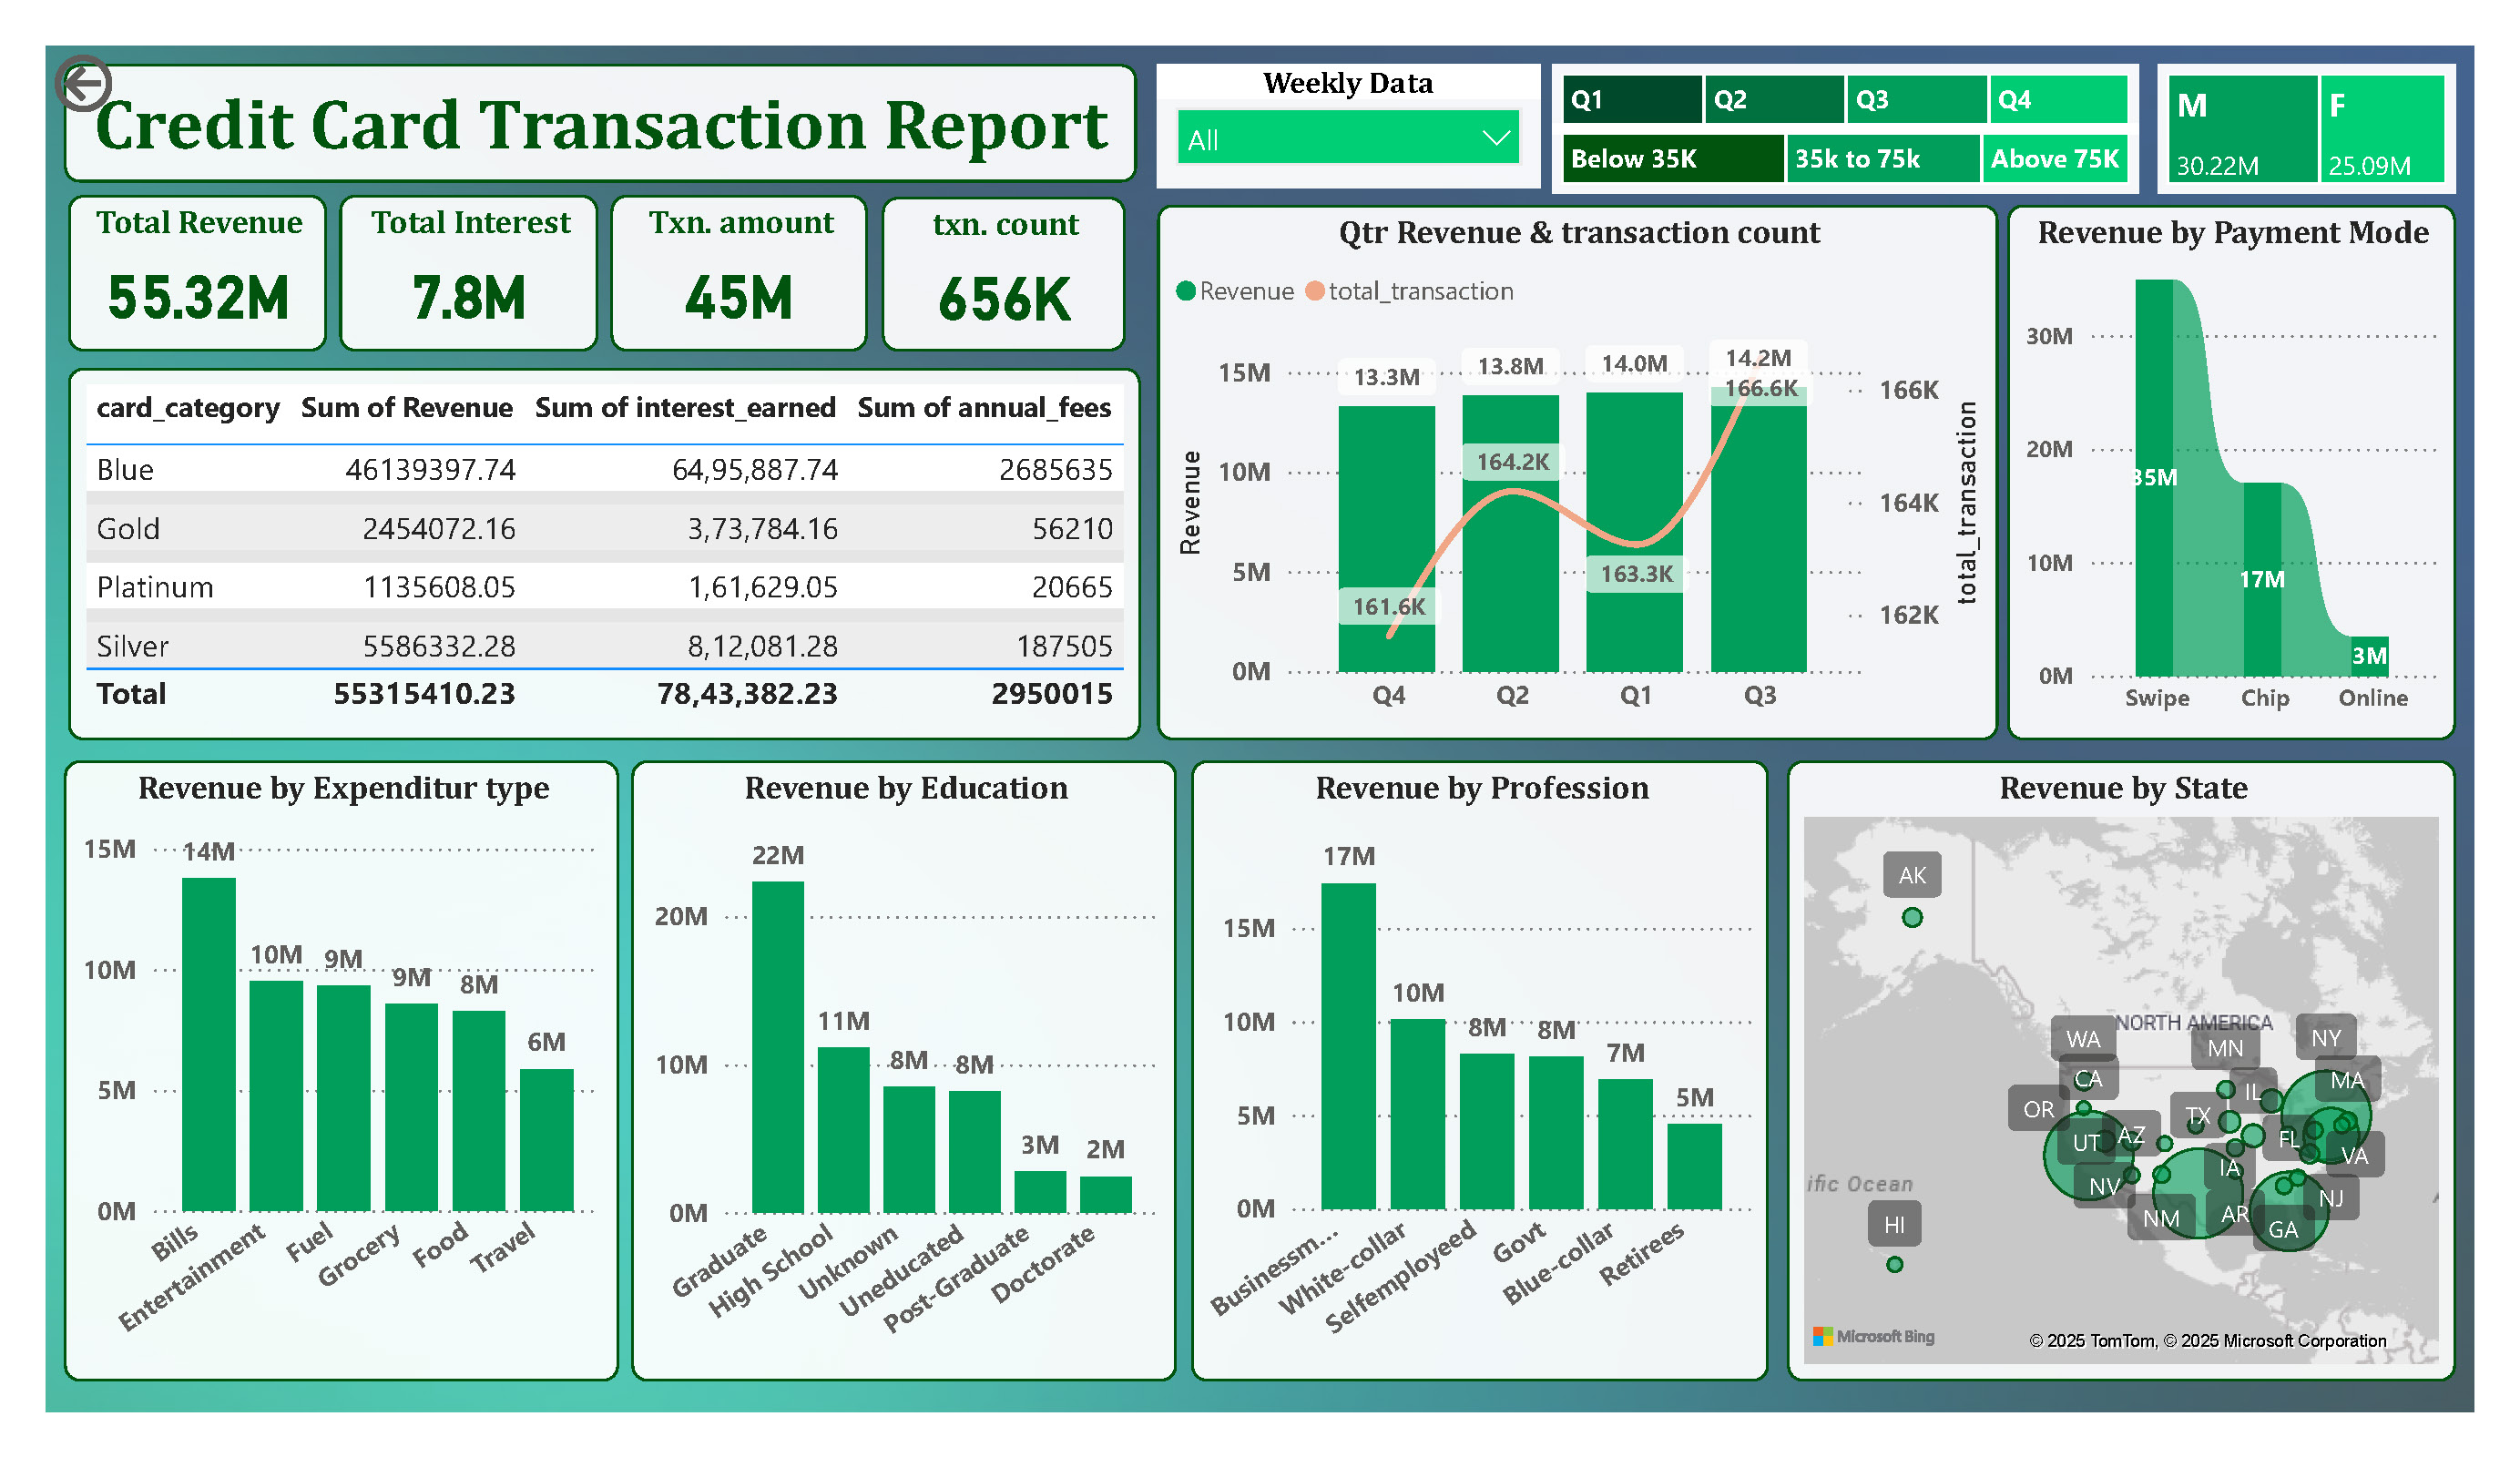

The page's visual inventory and layout, read from the dashboard file:
{"tool":"powerbi","page":{"name":"Page 2","canvas":[1280,720],"ordinal":1},"visuals":[{"type":"textbox","box":[10,10,565,62],"z":0},{"type":"treemap","fields":{"Group":["public cust_detail.gender"],"Values":["Sum(public cc_detail.Revenue)"]},"box":[1113,10,157,68],"z":1000},{"type":"treemap","fields":{"Values":["Count(public cc_detail.Revenue)"],"Group":["public cc_detail.qtr"]},"box":[794,9.8,309,36.9],"z":2000},{"type":"columnChart","title":"Revenue by Education","fields":{"Y":["Sum(public cc_detail.Revenue)"],"Category":["public cust_detail.education_level"]},"box":[309,376.7,286.8,327.4],"z":3000},{"type":"columnChart","title":"Revenue by Profession","fields":{"Category":["public cust_detail.customer_job"],"Y":["Sum(public cc_detail.Revenue)"]},"box":[604.4,376.7,304.1,327.4],"z":4000},{"type":"ribbonChart","title":"Revenue by Payment Mode","fields":{"Y":["Sum(public cc_detail.Revenue)"],"Category":["public cc_detail.use_chip"]},"box":[1034,83.7,236.4,281.9],"z":5000},{"type":"card","title":"Total Revenue","fields":{"Values":["Sum(public cc_detail.Revenue)"]},"box":[12.3,78.8,135.4,82.5],"z":6000},{"type":"card","title":"txn. count","fields":{"Values":["Sum(public cc_detail.total_trans_ct)"]},"box":[440.7,80,128,81.2],"z":7000},{"type":"card","title":"Total Interest","fields":{"Values":["Sum(public cc_detail.interest_earned)"]},"box":[155.1,78.8,135.4,82.5],"z":8000},{"type":"slicer","title":"Weekly Data","fields":{"Values":["public cc_detail.week_start_date"]},"box":[586,9.8,201.9,65.2],"z":9000},{"type":"card","title":"Txn. amount","fields":{"Values":["Sum(public cc_detail.total_trans_amt)"]},"box":[297.9,78.8,135.4,82.5],"z":10000},{"type":"columnChart","title":"Revenue by Expenditur type","fields":{"Y":["Sum(public cc_detail.Revenue)"],"Category":["public cc_detail.exp_type"]},"box":[9.8,376.7,291.7,327.4],"z":11000},{"type":"map","title":"Revenue by State","fields":{"Category":["public cust_detail.state_cd"],"Size":["Sum(public cc_detail.Revenue)"]},"box":[918.3,376.7,352.1,327.4],"z":12000},{"type":"lineStackedColumnComboChart","title":"Qtr Revenue & transaction count","fields":{"Category":["public cc_detail.qtr"],"Y":["Sum(public cc_detail.Revenue)"],"Y2":["Sum(public cc_detail.total_trans_ct)"]},"box":[586,83.7,443.2,281.9],"z":13000},{"type":"tableEx","fields":{"Values":["public cc_detail.card_category","Sum(public cc_detail.Revenue)","Sum(public cc_detail.interest_earned)","Sum(public cc_detail.annual_fees)"]},"box":[12.3,169.9,565,195.7],"z":14000},{"type":"actionButton","box":[0,0,100,40],"z":15000},{"type":"treemap","fields":{"Values":["Sum(public cc_detail.Revenue)"],"Group":["public cust_detail.Income_group"]},"box":[794,40.6,309,36.9],"z":16000}]}

Visuals, with their boxes in screenshot pixels (x1, y1, x2, y2):
textbox: detection(85, 65, 1142, 180)
treemap - public cust_detail.gender x Sum(public cc_detail.Revenue): detection(2150, 65, 2444, 192)
treemap - Count(public cc_detail.Revenue) x public cc_detail.qtr: detection(1553, 65, 2131, 133)
"Revenue by Education" columnChart: detection(644, 751, 1181, 1364)
"Revenue by Profession" columnChart: detection(1198, 751, 1767, 1364)
"Revenue by Payment Mode" ribbonChart: detection(2002, 203, 2444, 730)
"Total Revenue" card: detection(88, 193, 342, 348)
"txn. count" card: detection(891, 196, 1130, 348)
"Total Interest" card: detection(356, 193, 609, 348)
"Weekly Data" slicer: detection(1163, 65, 1541, 187)
"Txn. amount" card: detection(624, 193, 877, 348)
"Revenue by Expenditur type" columnChart: detection(84, 751, 630, 1364)
"Revenue by State" map: detection(1785, 751, 2444, 1364)
"Qtr Revenue & transaction count" lineStackedColumnComboChart: detection(1163, 203, 1993, 730)
tableEx - public cc_detail.card_category x Sum(public cc_detail.Revenue): detection(88, 364, 1147, 730)
actionButton: detection(66, 46, 253, 121)
treemap - Sum(public cc_detail.Revenue) x public cust_detail.Income_group: detection(1553, 122, 2131, 191)
